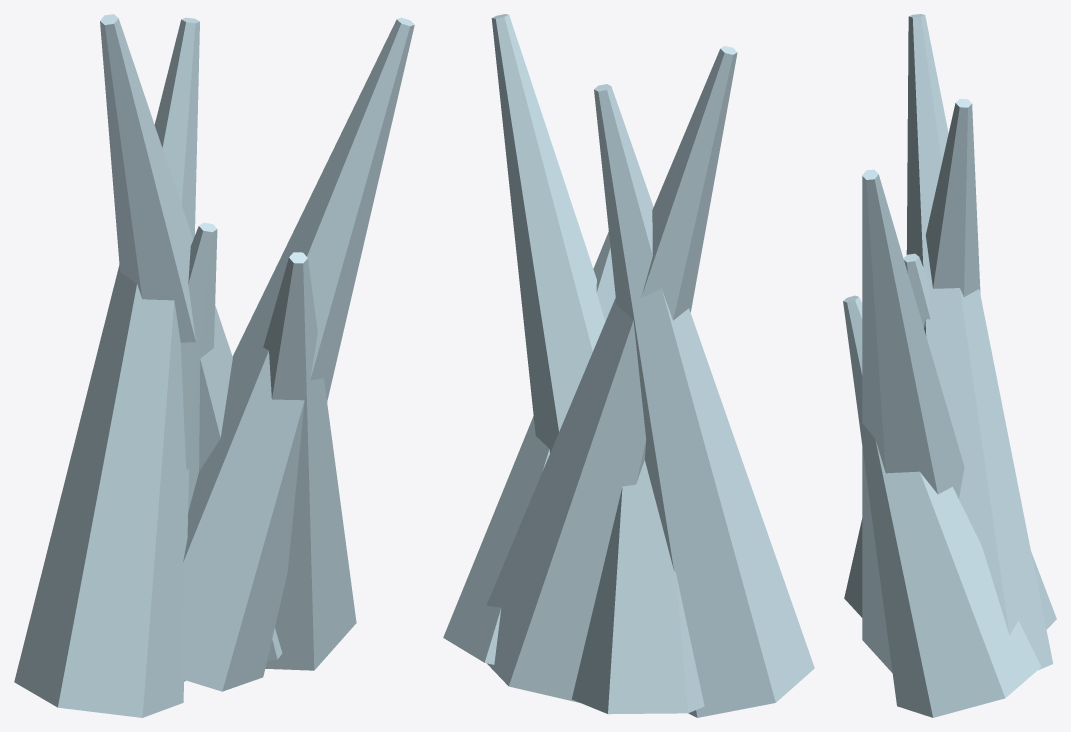
The model's file is Crystal.fbx.
3 renders of one model, left to right at view 1: azimuth 30°, elevation 25°; view 2: azimuth 150°, elevation 25°; view 3: azimuth 270°, elevation 25°, orthographic. The views are drawn at different scales.
Parts seen in each view (by area): view 1: Ice.001; view 2: Ice.001; view 3: Ice.001.
Boxes of the visible parts, <box> form: Ice.001: <box>14,14,414,717</box>; Ice.001: <box>443,14,814,717</box>; Ice.001: <box>843,14,1056,717</box>.
Size of the model in its own units: 2.13 by 4.02 by 1.28.
